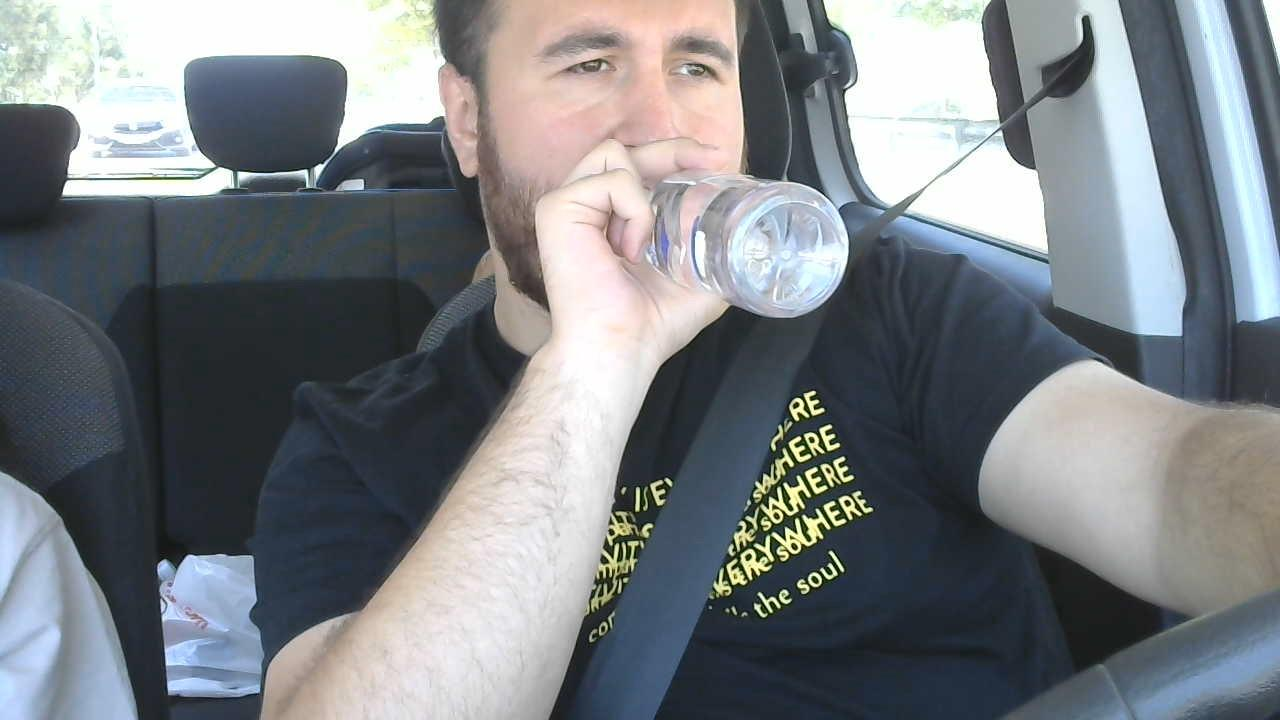Drinking: (437, 0, 850, 318)
